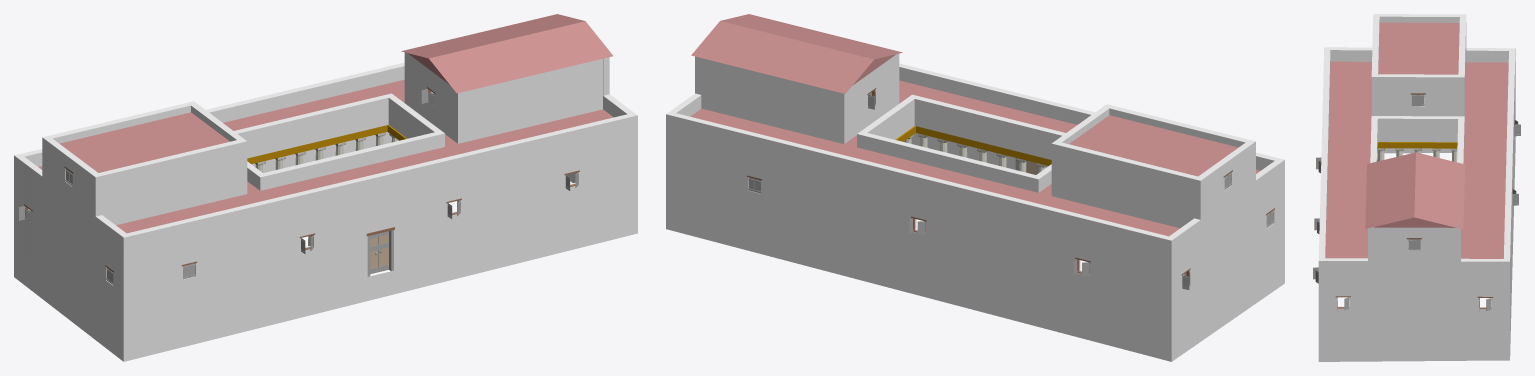
Rendered from LOD_Block_3_71.glb.
The picture shows the model from 3 angles, left to right: view 1: azimuth 30°, elevation 25°; view 2: azimuth 150°, elevation 25°; view 3: azimuth 270°, elevation 25°; orthographic projection. The views are drawn at different scales.
Visible parts, largest first — view 1: _1.4926; view 2: _1.4926; view 3: _1.4926.
Boxes of the visible parts, left/top/right/bottom form: _1.4926: left=14, top=14, right=637, bottom=361; _1.4926: left=666, top=14, right=1284, bottom=361; _1.4926: left=1313, top=14, right=1520, bottom=361.
Bounding box in the file's own units: 40.47 × 13.05 × 16.24.
21 materials, 2 textured.
